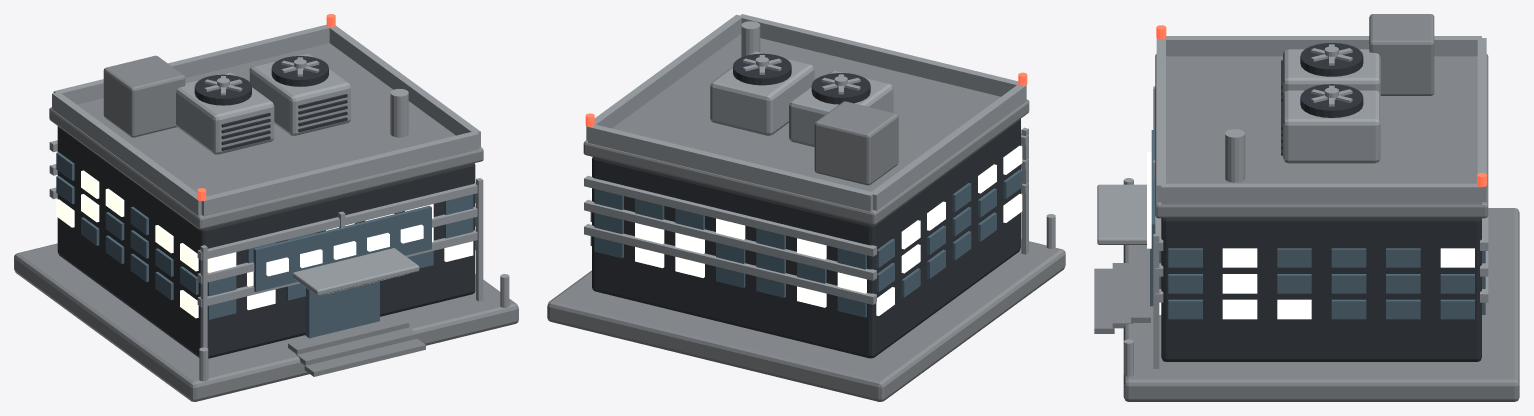
Rendered from soc.glb.
3 views of the same model, side by side, from view 1: azimuth 30°, elevation 25°; view 2: azimuth 150°, elevation 25°; view 3: azimuth 270°, elevation 25° (orthographic). The views are drawn at different scales.
Visible parts, largest first — view 1: ZDC_soc; view 2: ZDC_soc; view 3: ZDC_soc.
Part boxes in pixels (bbox=[...]): ZDC_soc: bbox=[14, 14, 518, 401]; ZDC_soc: bbox=[547, 14, 1065, 401]; ZDC_soc: bbox=[1094, 14, 1519, 401].
Bounding box in the file's own units: 2.05 × 1.34 × 2.1.
